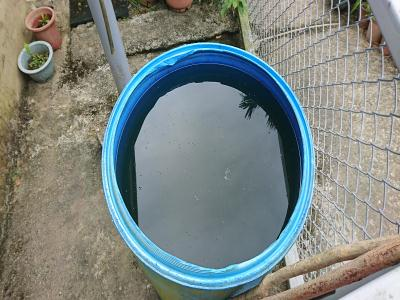bucket: (99, 38, 319, 299)
